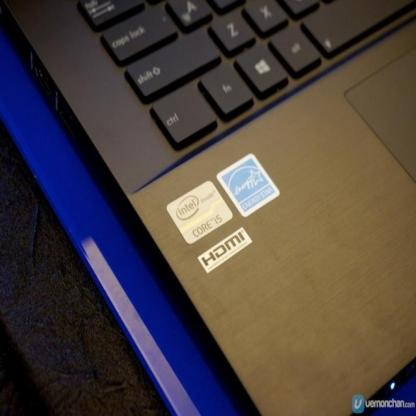board: (38, 0, 416, 404)
